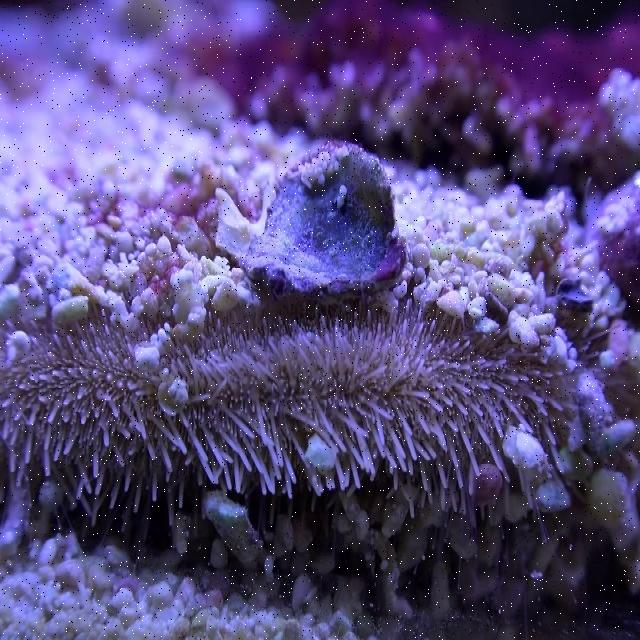fish: (214, 139, 406, 304)
reefs: (0, 305, 582, 551)
